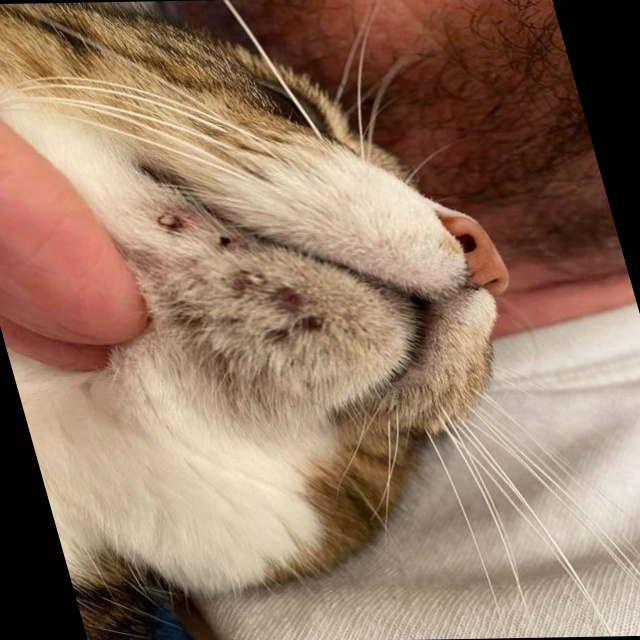acne: (129, 206, 364, 364)
